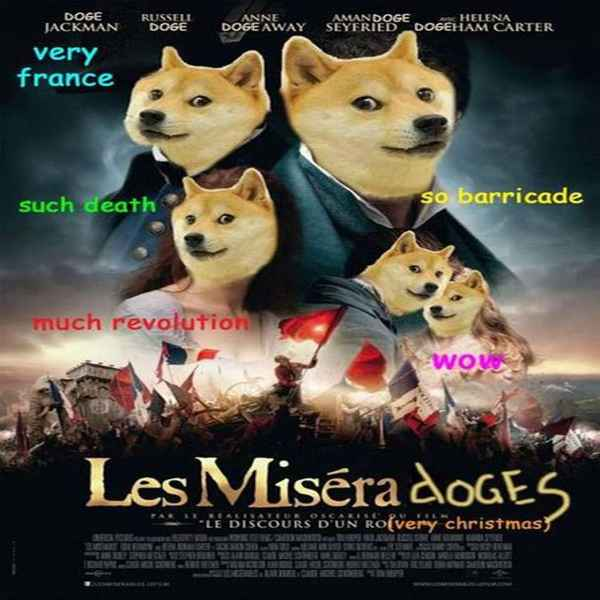doge: (283, 33, 458, 199), (118, 49, 263, 171), (174, 174, 276, 288), (377, 236, 448, 313), (423, 268, 487, 344)
